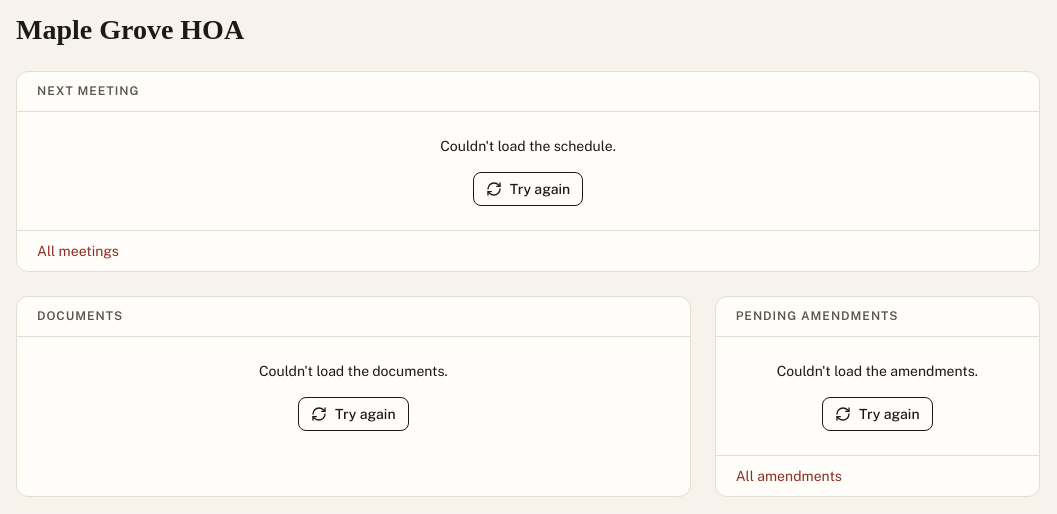
Test case: HomePage › says when something couldn't load, instead of showing it empty, and tries again
The image size is (1057, 514).
Expected: the text "Couldn't load the documents." is shown, left=259, top=363, right=448, bottom=379
Expected: the text "Couldn't load the amendments." is shown, left=777, top=363, right=978, bottom=379
Click the button "Try again" below "Couldn't load the schedule." at (528, 189), box left=473, top=172, right=583, bottom=206
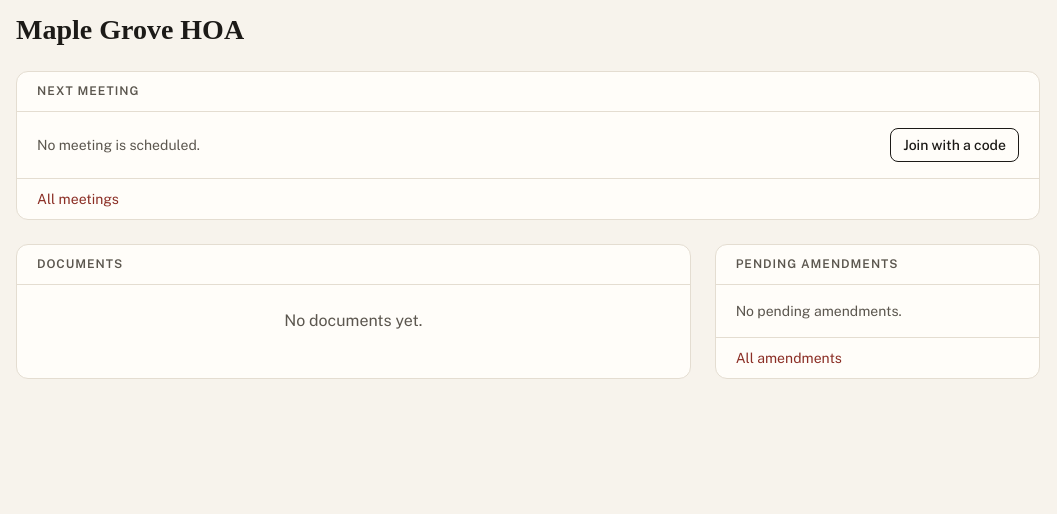
Expected: the text "No documents yet." is shown, left=284, top=311, right=422, bottom=330
Expected: the text "No pending amendments." is shown, left=736, top=303, right=902, bottom=319
Expected: the text "No meeting is scheduled." is shown, left=37, top=135, right=200, bottom=155
